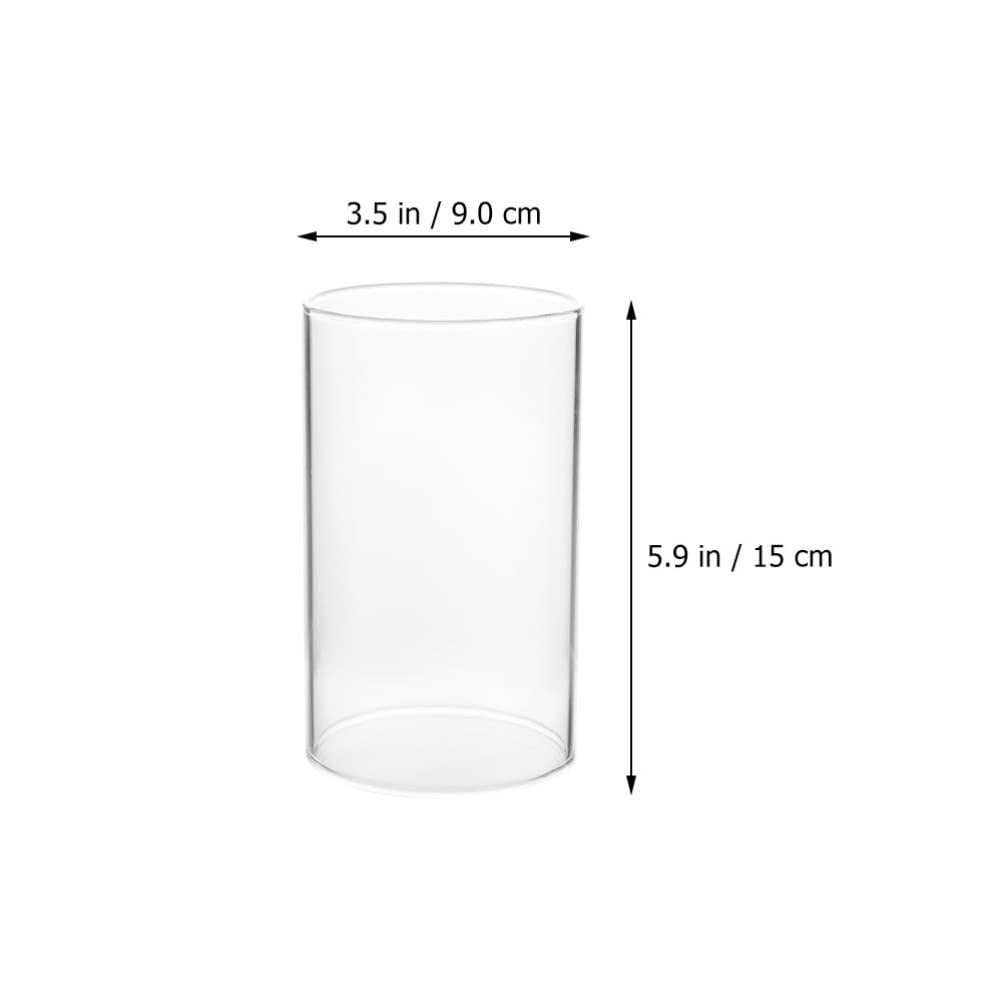/: (431, 201, 441, 229)
15cm: (755, 545, 832, 567)
5.9in/: (648, 544, 742, 572)
9.0: (452, 201, 492, 225)
\: (545, 758, 573, 775)
cm: (503, 207, 540, 224)
